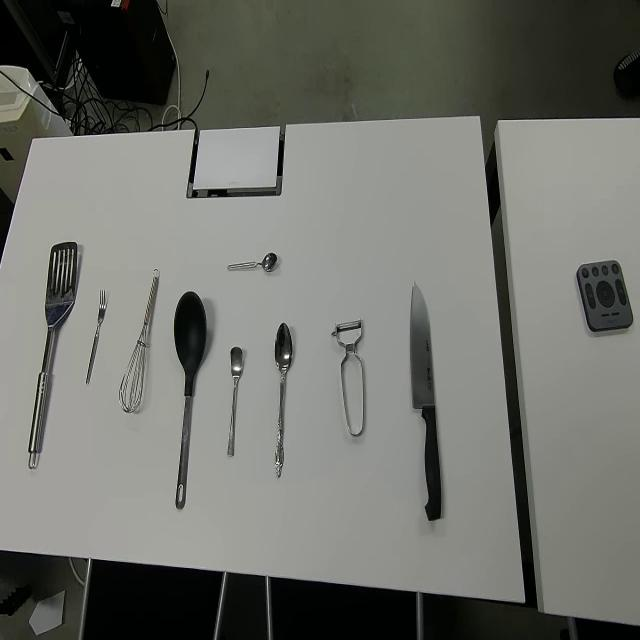Desert-Spoon: (273, 320, 293, 480)
Dinner-Fork: (86, 286, 107, 386)
Kitchen-Knife: (409, 281, 443, 524)
Peeler: (331, 315, 365, 437)
Serving-Spoon: (27, 240, 79, 472), (173, 288, 207, 512)
Tea-Spoon: (226, 345, 244, 458), (226, 249, 278, 273)
Whisk: (118, 266, 160, 414)
